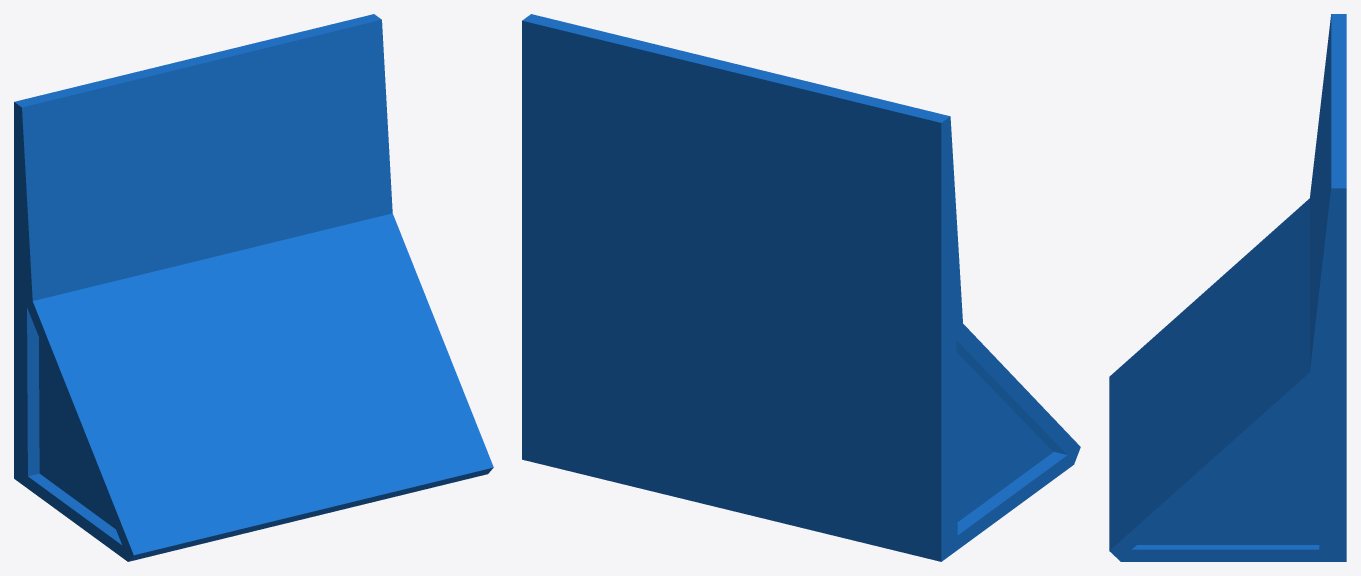
The model's file is T_wooden_triangle2.fbx.
3 renders of one model, left to right at view 1: azimuth 30°, elevation 25°; view 2: azimuth 150°, elevation 25°; view 3: azimuth 270°, elevation 25°, orthographic. The views are drawn at different scales.
Visible parts, largest first — view 1: wooden_triangle2; view 2: wooden_triangle2; view 3: wooden_triangle2.
Boxes of the visible parts, bbox=[...] form: wooden_triangle2: bbox=[14, 14, 493, 561]; wooden_triangle2: bbox=[522, 14, 1080, 561]; wooden_triangle2: bbox=[1109, 14, 1346, 561].
Bounding box in the file's own units: 200 × 207 × 115.
